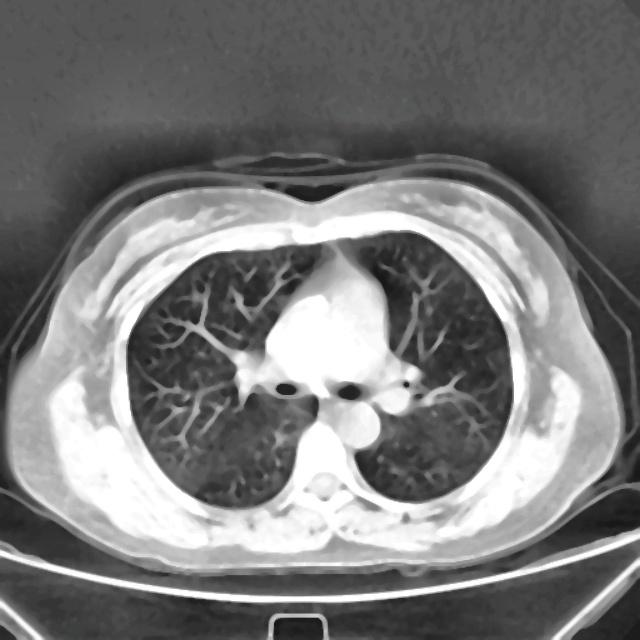covid: (3, 153, 627, 577)
